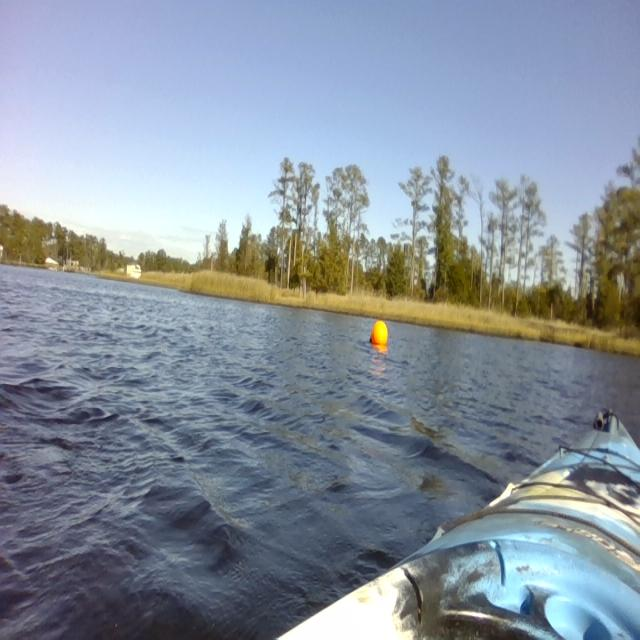Buoy: (367, 312, 398, 357)
